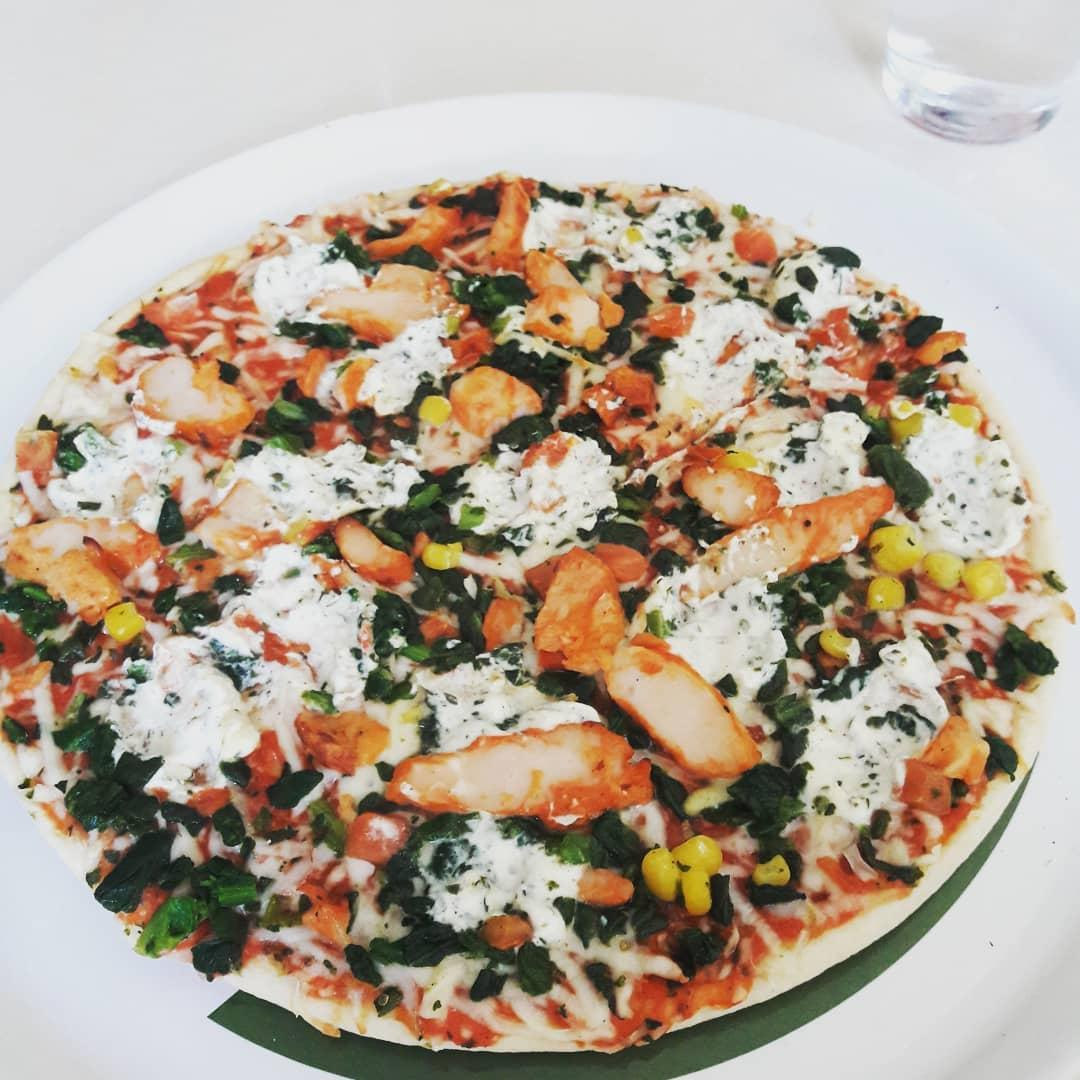Chicken: (378, 719, 664, 833), (679, 474, 905, 608), (599, 634, 765, 784), (299, 256, 479, 352), (0, 508, 169, 604), (121, 341, 258, 447), (528, 541, 623, 683), (516, 244, 622, 354), (668, 447, 782, 528), (284, 693, 393, 777), (442, 368, 552, 448), (362, 194, 491, 260), (570, 366, 668, 450), (325, 512, 417, 590), (914, 716, 996, 788), (486, 172, 537, 283)
Corn: (864, 517, 923, 581), (960, 546, 1013, 611), (919, 540, 972, 603), (100, 591, 153, 649), (864, 568, 917, 622), (641, 842, 683, 905), (677, 825, 726, 879), (416, 532, 472, 577), (943, 388, 988, 441), (411, 386, 457, 436), (671, 868, 716, 916), (882, 392, 925, 439), (754, 848, 794, 898), (815, 617, 855, 662)
Pizza: (0, 153, 1080, 1080)
